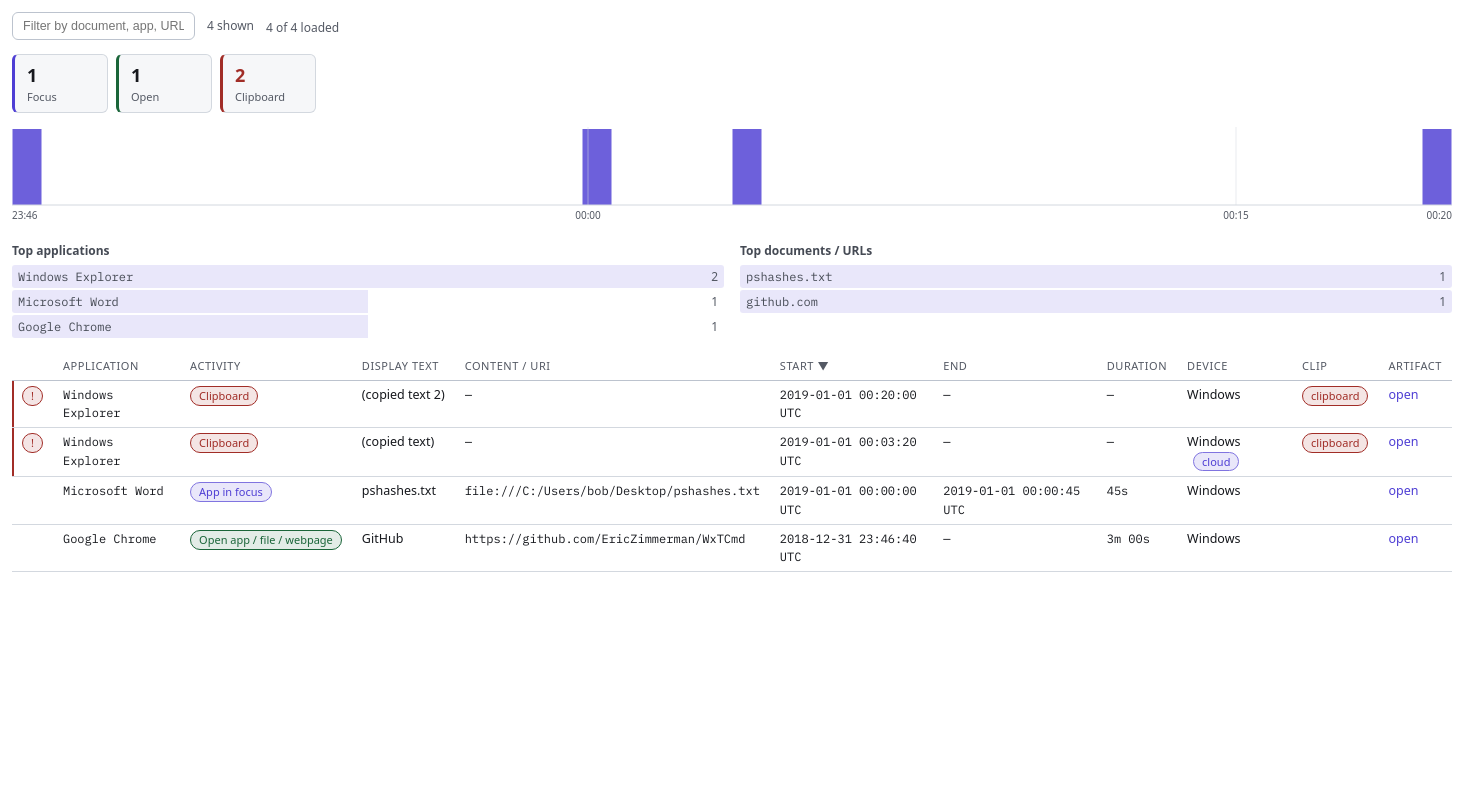
Test: WindowsTimelineViewer clipboard reveal scoping › never paints another activity clipboard text under the first reveal
The image size is (1464, 806).
Click the 2nd row with test id "an-wt-row" at (732,452), box [12, 428, 1452, 477]
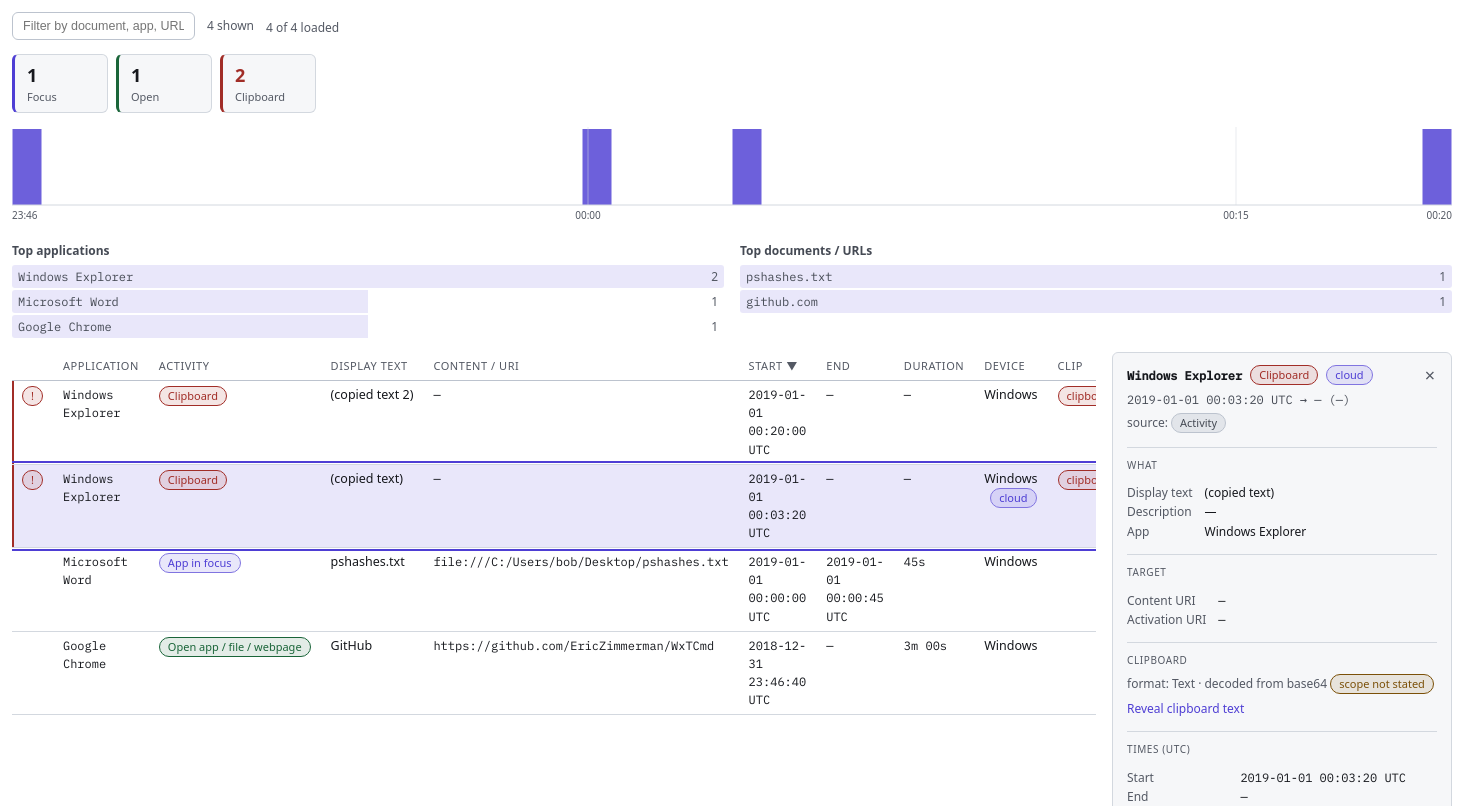
Click the button "Reveal clipboard text" at (1186,708), box [1127, 700, 1244, 717]
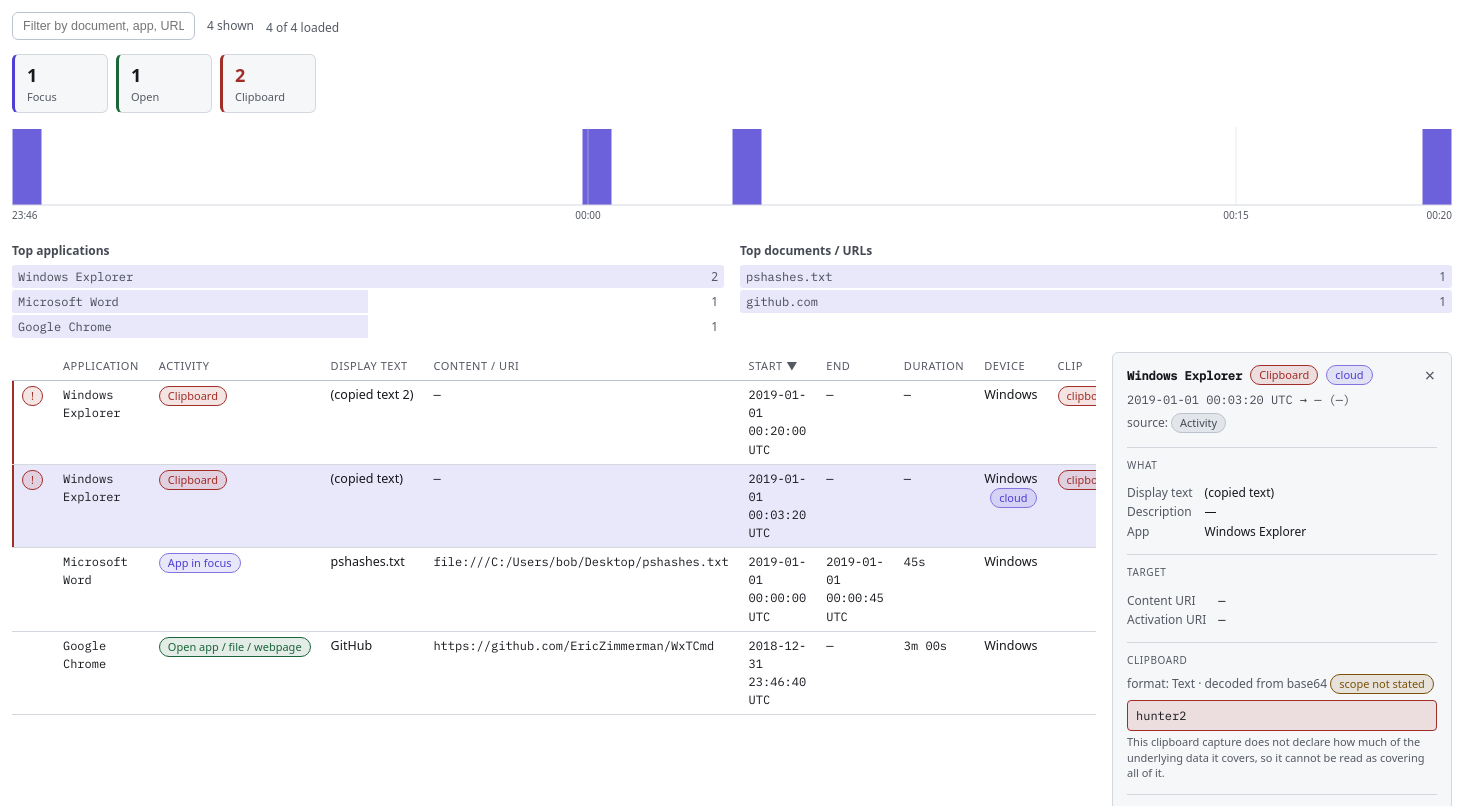
Expected: the text "hunter2" is shown, [1127, 700, 1437, 731]
Click the 1st row with test id "an-wt-row" at (610,423), box [12, 381, 1208, 464]
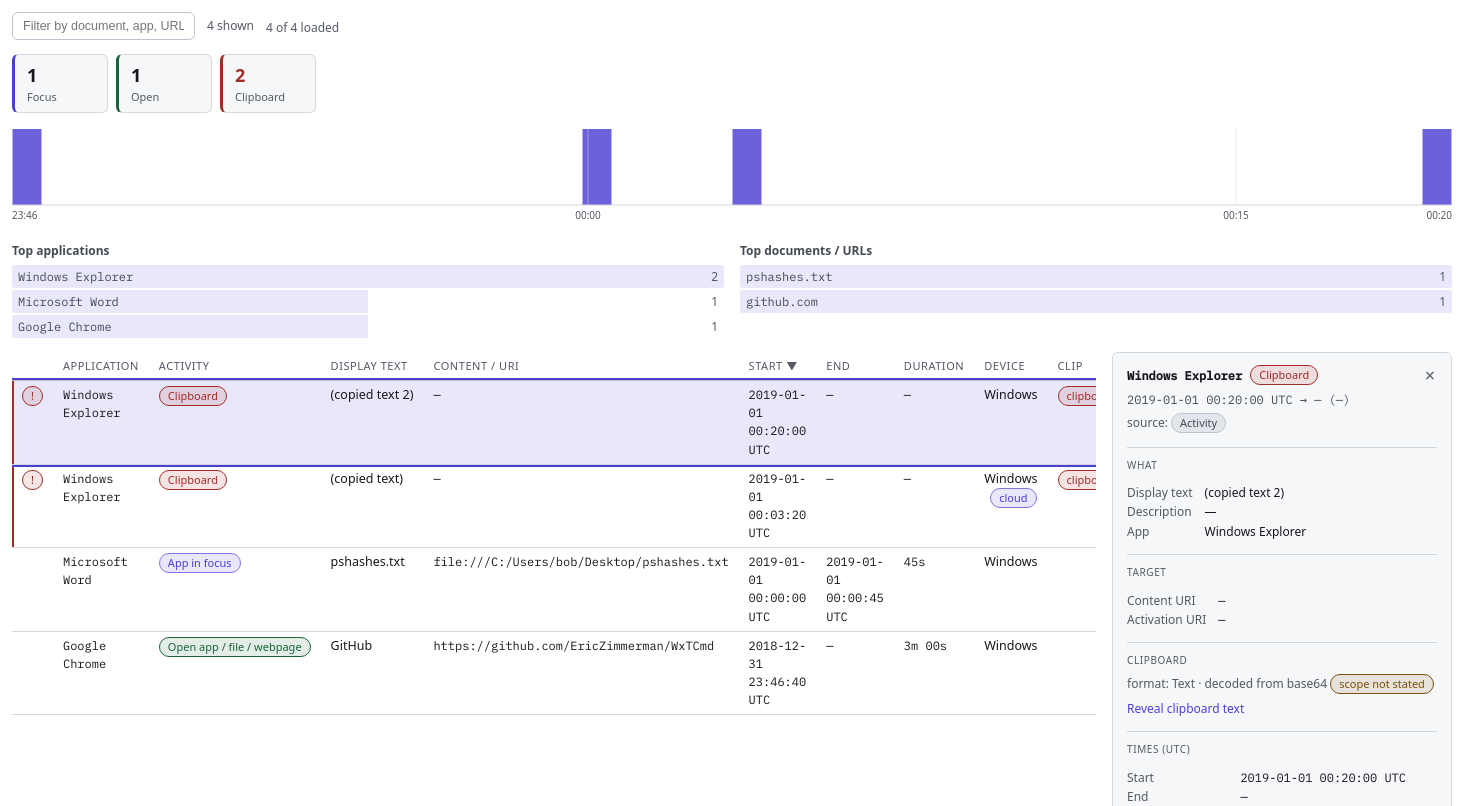
Expected: the button "Reveal clipboard text" is shown, [1127, 700, 1244, 717]
